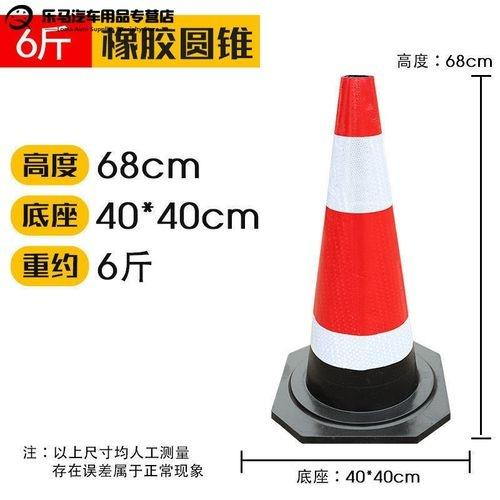cone_barrel: (290, 83, 432, 426)
